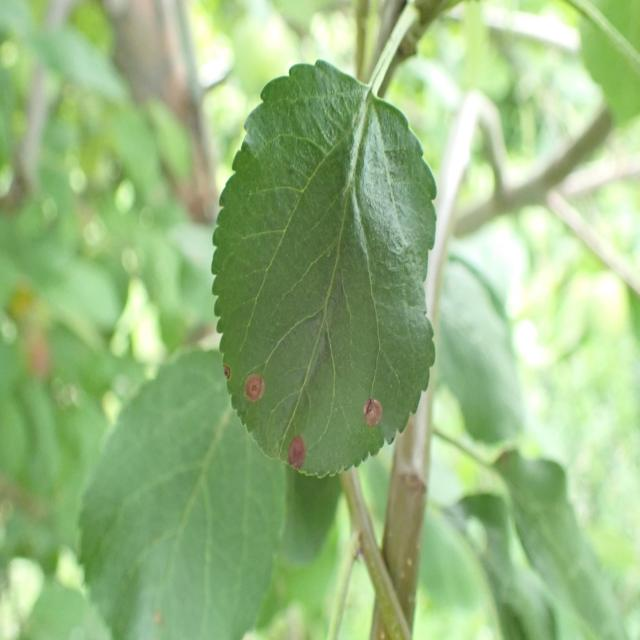Black Rot: (274, 424, 321, 482), (232, 355, 268, 418), (351, 391, 393, 441)
